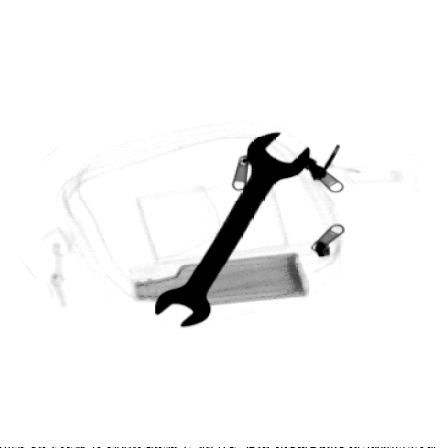Wrench: (152, 131, 312, 329)
